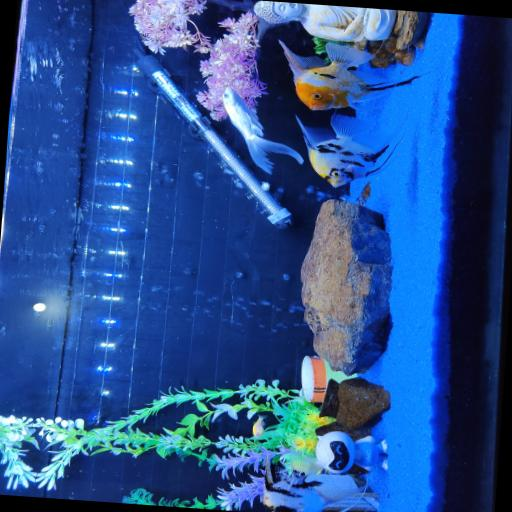Fish: (279, 40, 420, 109), (297, 113, 393, 186), (223, 87, 303, 173), (263, 454, 363, 511), (253, 414, 267, 438)
